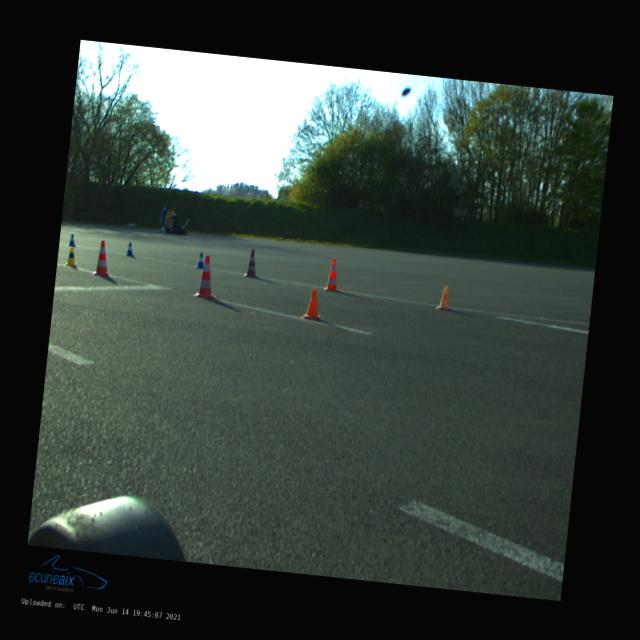blue_cone: (195, 252, 205, 268), (125, 241, 134, 256), (68, 233, 76, 246)
large_orange_cone: (192, 254, 220, 299), (91, 240, 114, 276), (323, 256, 342, 292), (243, 248, 260, 277)
orange_cone: (300, 287, 325, 321)
unknown_cone: (434, 285, 454, 310)
yellow_cone: (65, 246, 78, 266)
